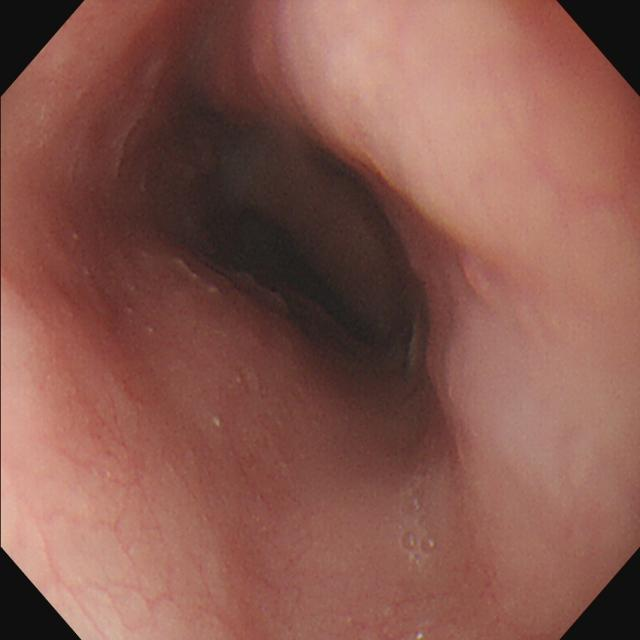E: (176, 117, 411, 355)
T: (400, 529, 437, 558)
